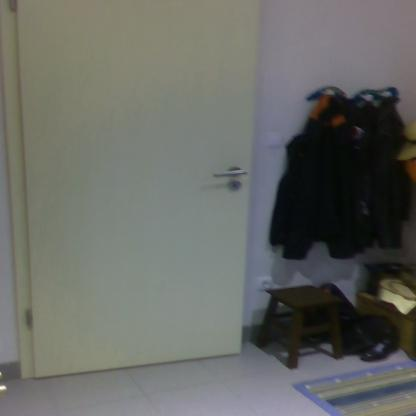door: (13, 0, 244, 359)
hinged: (24, 308, 35, 330), (8, 0, 19, 12)
lever: (212, 168, 249, 178)
